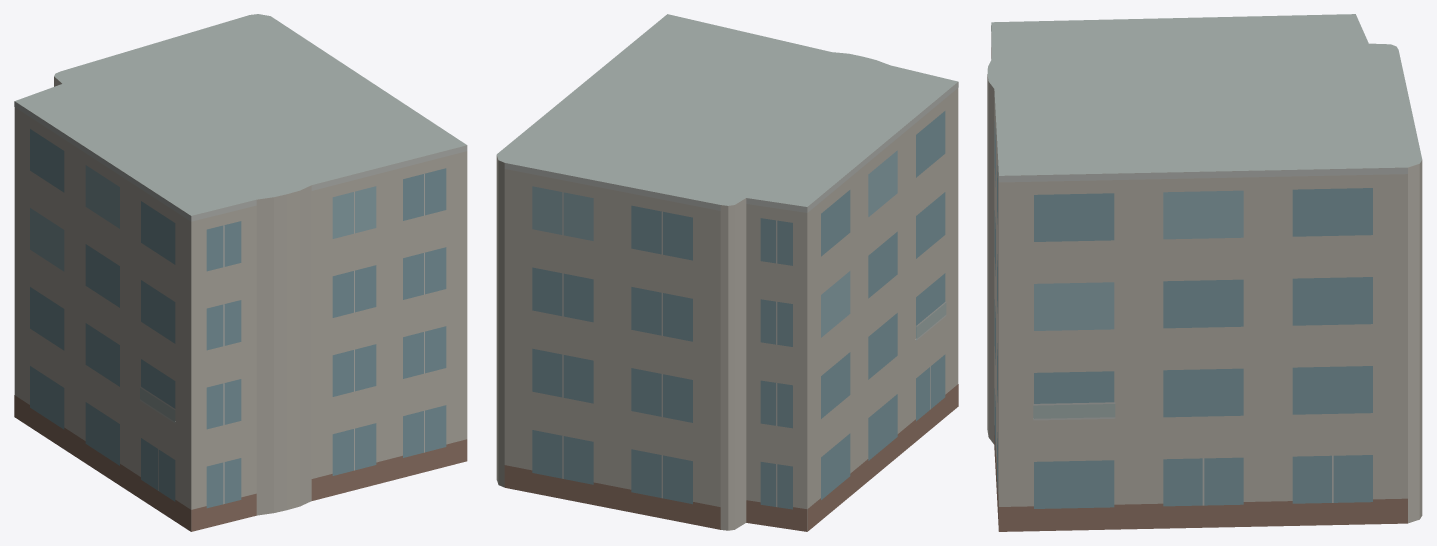
The model's file is survey-upis-32732768.glb.
3 renders of one model, left to right at view 1: azimuth 30°, elevation 25°; view 2: azimuth 150°, elevation 25°; view 3: azimuth 270°, elevation 25°, orthographic. The views are drawn at different scales.
Visible parts, largest first — view 1: survey-upis-32732768.tmp; view 2: survey-upis-32732768.tmp; view 3: survey-upis-32732768.tmp.
Part boxes in pixels (x1,y1,x2,y2): survey-upis-32732768.tmp: (14,14,467,531); survey-upis-32732768.tmp: (496,14,958,531); survey-upis-32732768.tmp: (987,14,1422,531).
Size of the model in its own units: 12.88 by 13.2 by 14.62.
